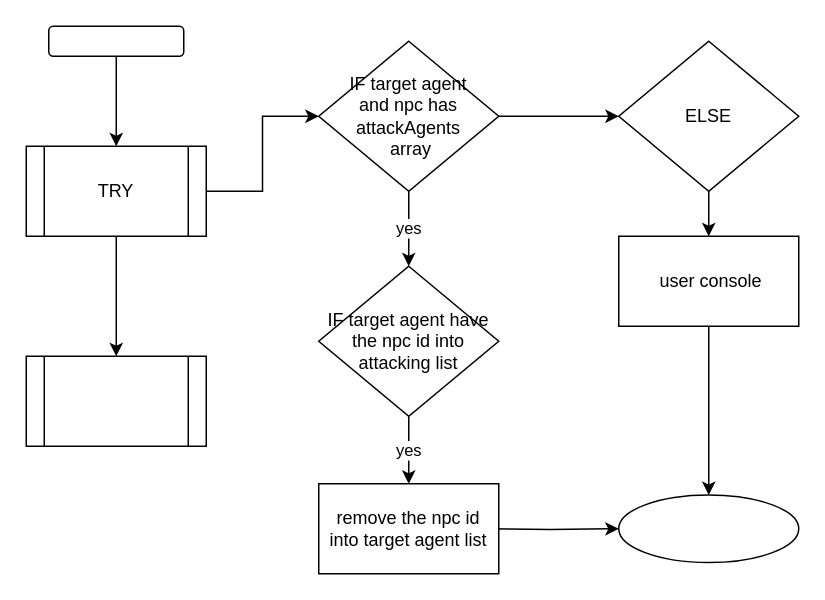
The diagram is 825 pixels wide and 600 high, and some of its shapes have lost their labels. The shapes that lost their labels are listed below. From the top down, each one's centre as x and y in pixels, then its label:
At point (115, 40): "start".
At point (115, 400): "CATCH".
At point (708, 528): "end".
